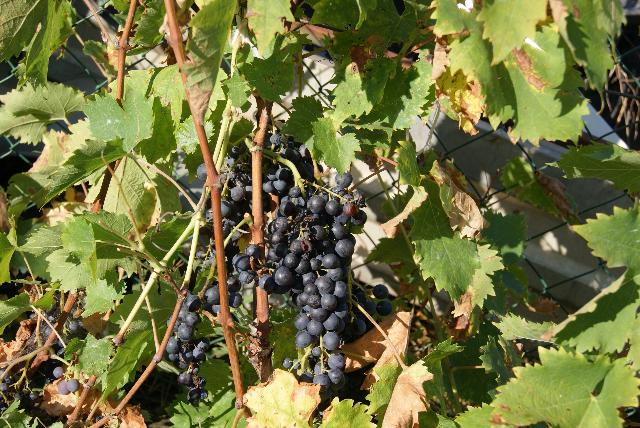grapes: (270, 194, 365, 351), (165, 292, 210, 404), (315, 355, 344, 391), (205, 285, 219, 315)
